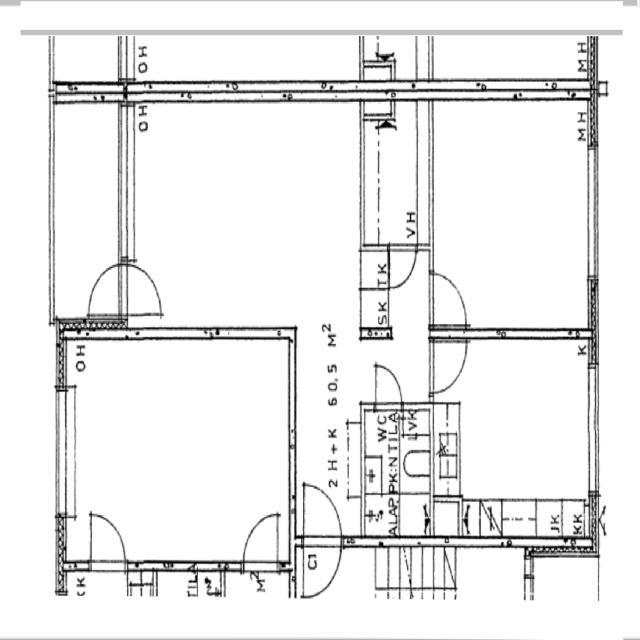door: (296, 478, 344, 604), (427, 264, 472, 398), (75, 508, 131, 577), (239, 505, 284, 575), (121, 255, 168, 322), (84, 256, 130, 324), (428, 333, 469, 397), (428, 268, 472, 326), (370, 360, 406, 412), (385, 242, 418, 292)
window: (108, 100, 142, 268), (48, 379, 83, 526), (459, 321, 585, 349), (581, 354, 605, 496), (581, 143, 603, 286)
zone: (126, 96, 370, 324), (66, 337, 296, 565), (428, 96, 596, 334), (434, 332, 597, 542), (360, 402, 432, 542), (360, 102, 427, 248)
